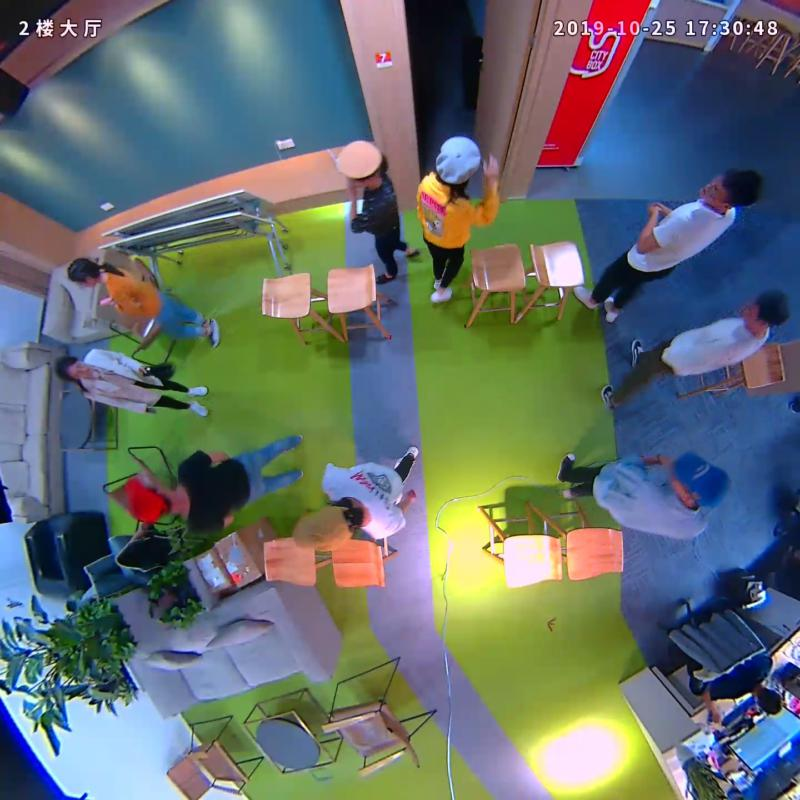head: (292, 499, 360, 552), (670, 452, 730, 509), (120, 475, 174, 524), (697, 168, 761, 209), (434, 133, 481, 185), (336, 138, 380, 188), (741, 287, 790, 328), (66, 257, 99, 288), (54, 356, 89, 380)
